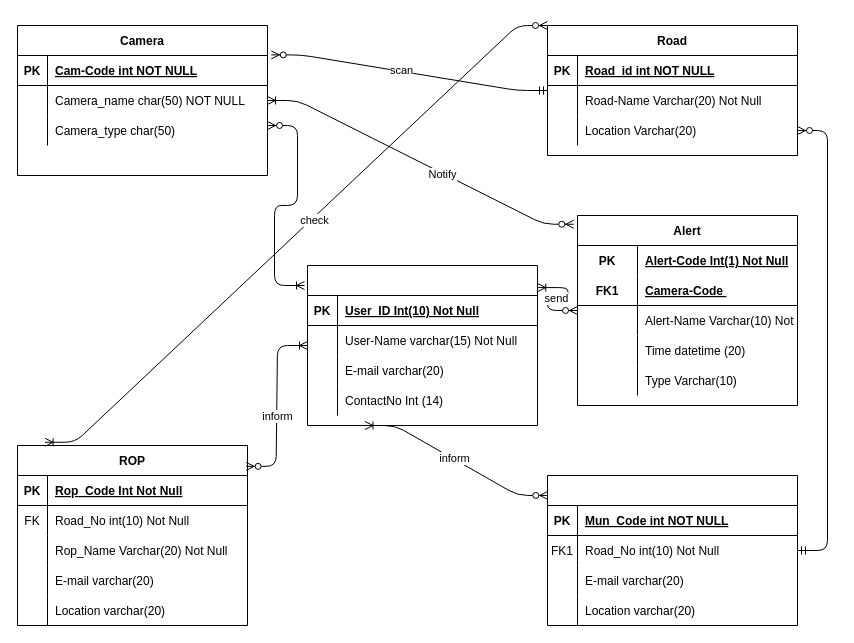
This 854x643 diagram has some shape labels left out. The box of each missing label's shape, as (x1, y1, x2, y2) in pixels:
Admin-User: (306, 264, 538, 426)
Municipality: (546, 474, 798, 626)
